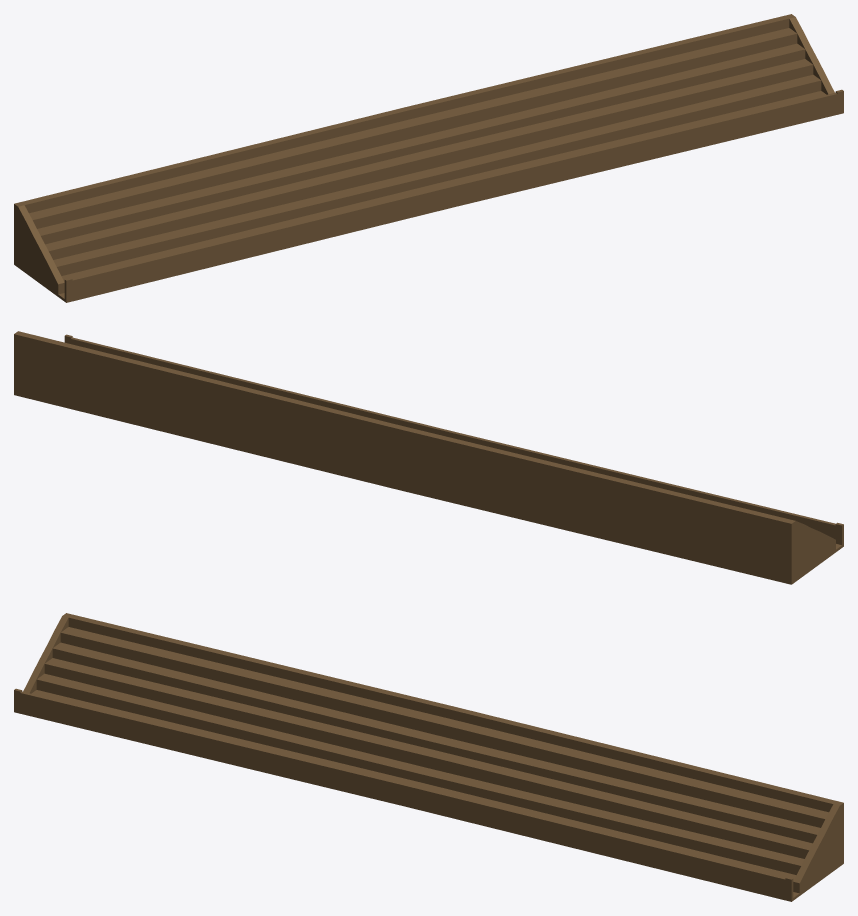
The model's file is tribune.fbx.
3 views of the same model, one above another, from view 1: azimuth 30°, elevation 25°; view 2: azimuth 150°, elevation 25°; view 3: azimuth 330°, elevation 25° (orthographic).
Visible parts, largest first — view 1: Cube; view 2: Cube; view 3: Cube.
Boxes of the visible parts, x1,y1,x2,y2 form: Cube: [14, 14, 843, 302]; Cube: [14, 331, 843, 584]; Cube: [14, 613, 843, 901].
Bounding box in the file's own units: 7463 × 559 × 888.
